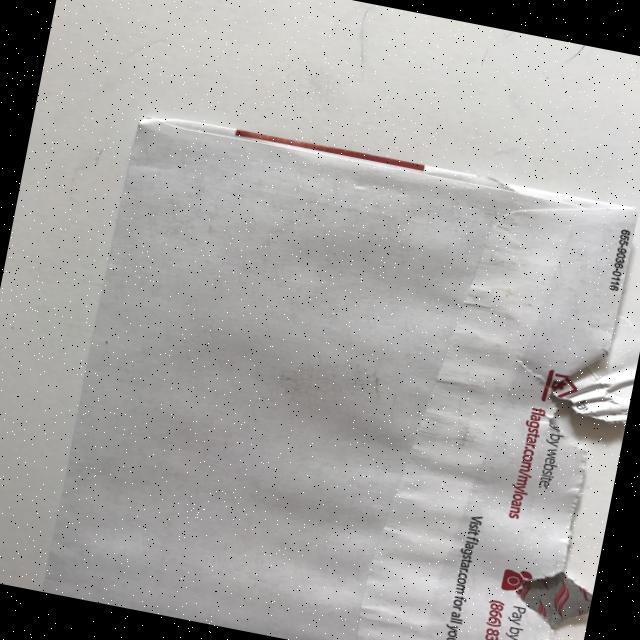paper: (40, 107, 640, 640)
